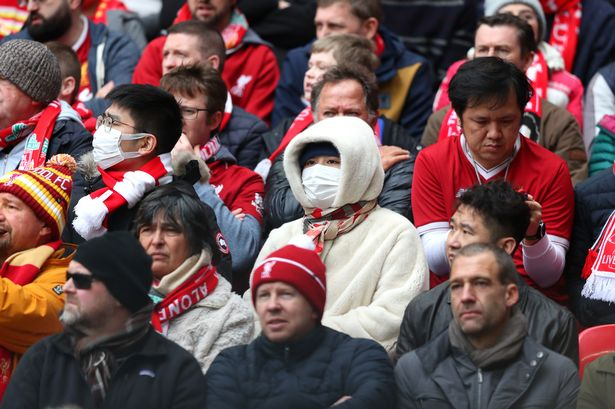with_mask: (98, 104, 144, 165), (298, 142, 341, 198)
without_mask: (62, 253, 126, 331), (452, 256, 498, 333), (257, 271, 309, 335), (467, 96, 515, 161), (140, 209, 189, 271), (174, 82, 218, 148), (447, 192, 482, 259), (1, 190, 44, 243), (163, 34, 195, 71)
